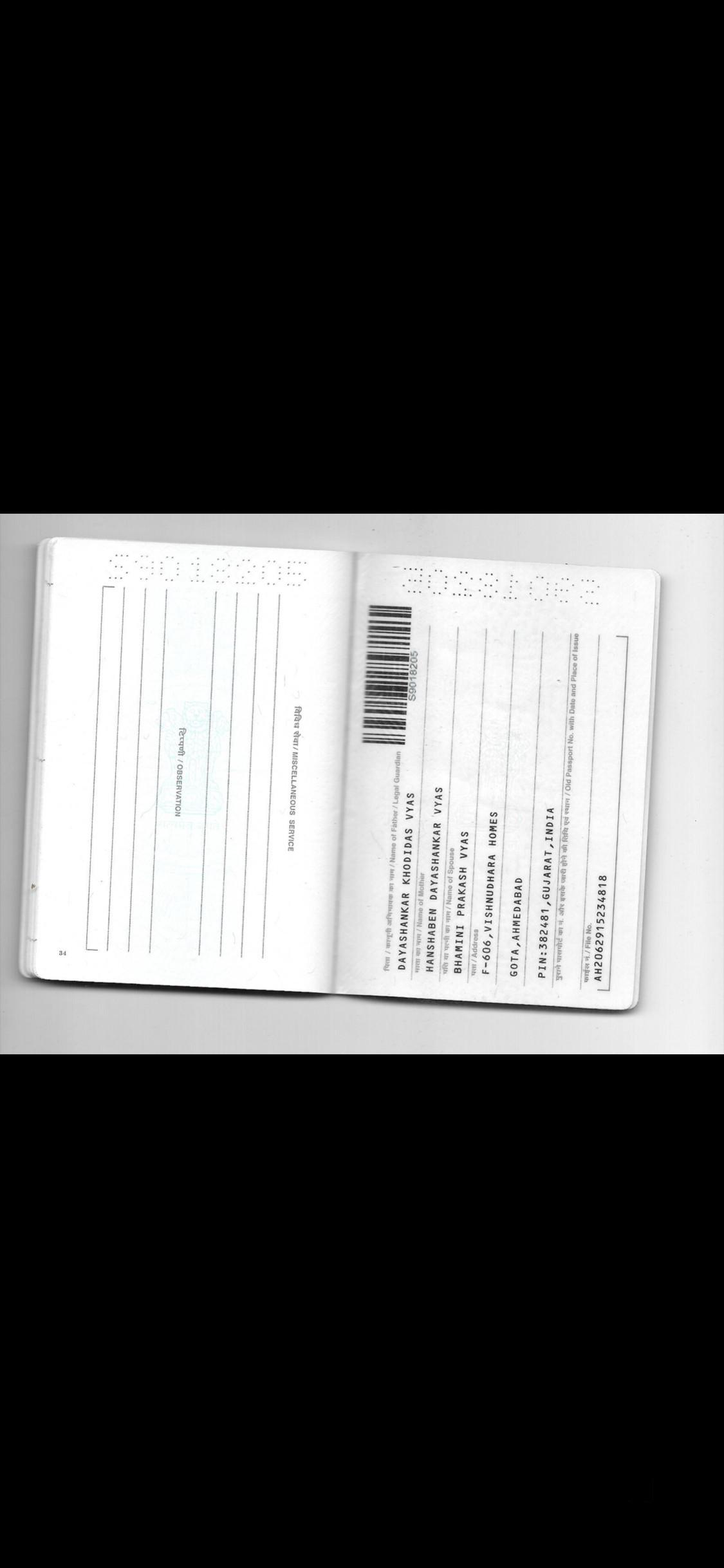File_no: (592, 872, 611, 990)
address: (479, 793, 557, 989)
father_name: (395, 787, 417, 974)
mother_name: (422, 782, 445, 976)
passport_no: (398, 649, 424, 708)
spouse_name: (451, 821, 471, 979)
